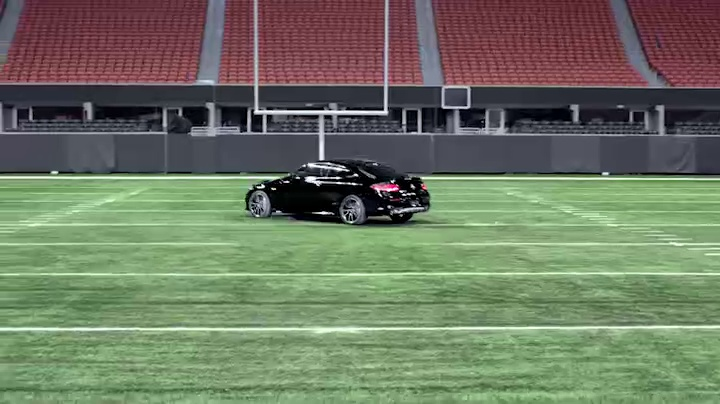amg: (244, 160, 433, 225)
